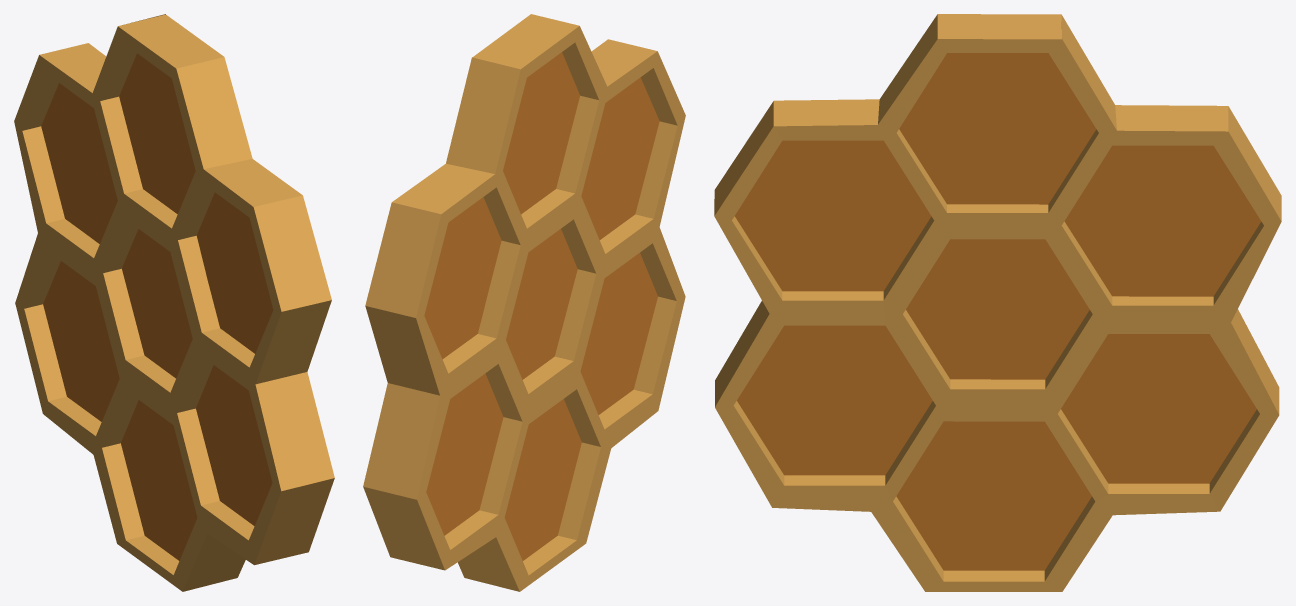
Rendered from honeycombs_resource.fbx.
The picture shows the model from 3 angles, left to right: view 1: azimuth 30°, elevation 25°; view 2: azimuth 150°, elevation 25°; view 3: azimuth 270°, elevation 25°; orthographic projection. The views are drawn at different scales.
Visible parts, largest first — view 1: honeycombs_resourses; view 2: honeycombs_resourses; view 3: honeycombs_resourses.
Part boxes in pixels (x1=…): honeycombs_resourses: x1=14, y1=14, x2=334, y2=591; honeycombs_resourses: x1=363, y1=14, x2=685, y2=591; honeycombs_resourses: x1=714, y1=14, x2=1281, y2=591.
Size of the model in its own units: 2.33 by 20.76 by 19.43.
